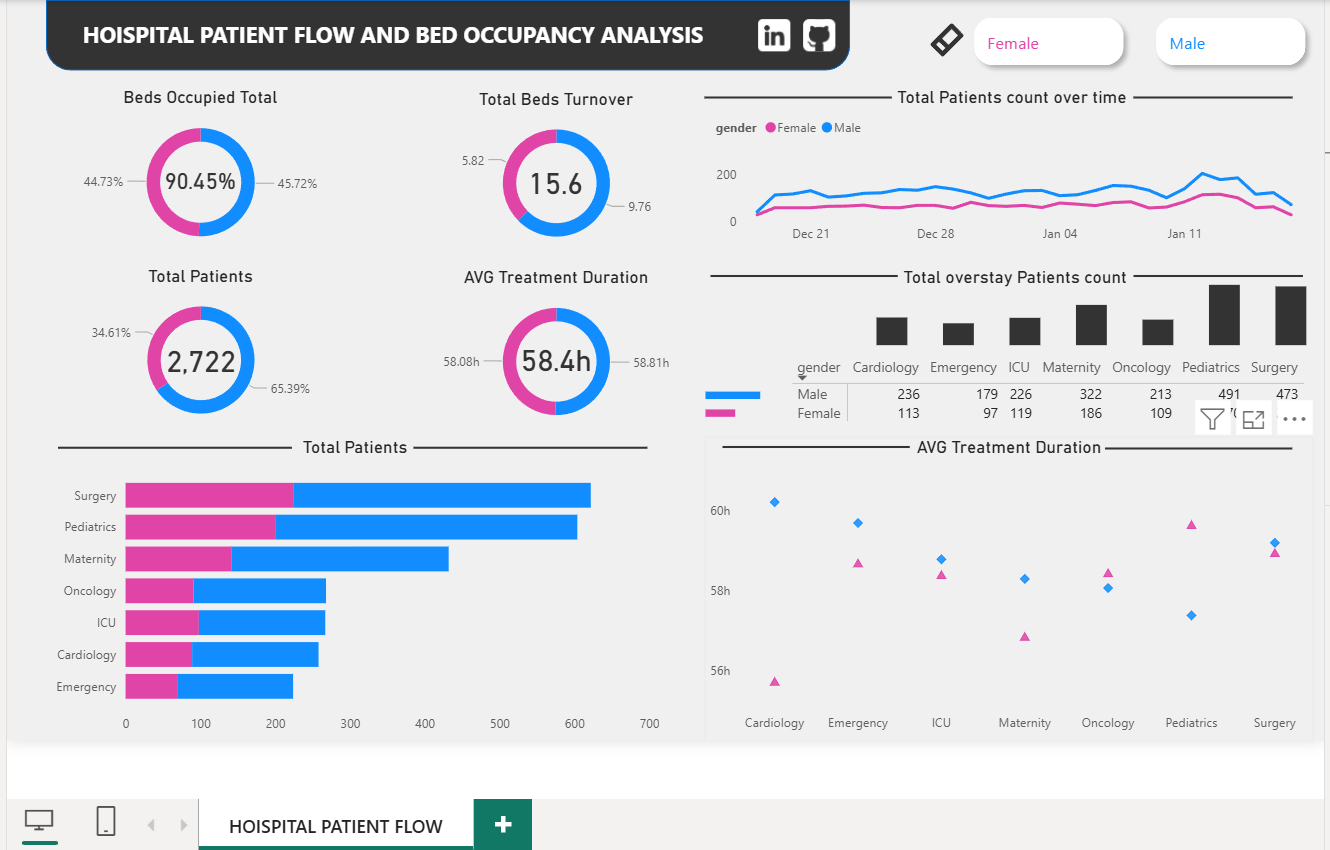

Layout of this report page (visuals, bound fields, positions):
{"tool":"powerbi","page":{"name":"HOISPITAL PATIENT FLOW","canvas":[1280,720],"ordinal":0},"visuals":[{"type":"donutChart","fields":{"Y":["vw_bed_occupancy.Bed Occupancy %"],"Category":["vw_bed_occupancy.gender"]},"box":[38.6,84.6,300,165],"z":0},{"type":"donutChart","fields":{"Category":["vw_bed_turnover_rate.gender"],"Y":["Sum(vw_bed_turnover_rate.bed_turnover_rate)"]},"box":[383.4,85.7,300.4,163.7],"z":1000},{"type":"donutChart","fields":{"Y":["Sum(vw_patient_demographics.total_patients)"],"Category":["vw_patient_demographics.gender"]},"box":[38.5,258.1,300.4,163.7],"z":2000},{"type":"card","fields":{"Values":["Sum(vw_bed_turnover_rate.bed_turnover_rate)"]},"box":[485.5,155,94.4,44.3],"z":3000},{"type":"card","fields":{"Values":["Sum(vw_patient_demographics.total_patients)"]},"box":[111.7,294.6,152.1,109.8],"z":4000},{"type":"card","fields":{"Values":["dim_department.SumAsPercent"]},"box":[135.6,156,103.5,39.4],"z":5000},{"type":"donutChart","fields":{"Y":["Avg(vw_avg_treatment_duration.avg_treatment_duration)"],"Category":["vw_avg_treatment_duration.gender"]},"box":[383.2,260,300.4,163.7],"z":6000},{"type":"card","fields":{"Values":["Avg(vw_avg_treatment_duration.avg_treatment_duration)"]},"box":[469.9,294.6,127.1,107.8],"z":7000},{"type":"lineChart","fields":{"Y":["Sum(vw_patient_volume_trend.patient_count)"],"Series":["vw_patient_volume_trend.gender"],"Category":["vw_patient_volume_trend.admission_date.Variation.Date Hierarchy.Year","vw_patient_volume_trend.admission_date.Variation.Date Hierarchy.Quarter","vw_patient_volume_trend.admission_date.Variation.Date Hierarchy.Month","vw_patient_volume_trend.admission_date.Variation.Date Hierarchy.Day"]},"box":[683.7,84.6,586.1,160.4],"z":8000},{"type":"barChart","fields":{"Category":["vw_department_inflow.department"],"Y":["Sum(vw_department_inflow.patient_count)"],"Series":["vw_department_inflow.gender"]},"box":[38.5,423.7,600.9,296.6],"z":9000},{"type":"pivotTable","fields":{"Rows":["vw_overstay_patients.gender"],"Columns":["vw_overstay_patients.department"],"Values":["Sum(vw_overstay_patients.overstay_count)"]},"box":[758.1,341.1,515,83.1],"z":10000},{"type":"scatterChart","fields":{"Series":["vw_avg_treatment_duration.gender"],"X":["vw_avg_treatment_duration.department"],"Y":["Sum(vw_avg_treatment_duration.avg_treatment_duration)"]},"box":[677.9,424.2,591.9,295.9],"z":11000},{"type":"advancedSlicerVisual","fields":{"Values":["dim_patient.gender"]},"box":[922.8,0,357.2,80],"z":12000},{"type":"clusteredColumnChart","fields":{"Category":["vw_overstay_patients.gender","vw_overstay_patients.department"],"Y":["Sum(vw_overstay_patients.overstay_count)"]},"box":[839.7,259.5,430.1,81.6],"z":13000},{"type":"clusteredBarChart","fields":{"Category":["vw_overstay_patients.gender"],"Y":["Sum(vw_overstay_patients.overstay_count)"]},"box":[673.5,358.6,84.6,61.2],"z":14000},{"type":"textbox","box":[739.5,260,481.5,50.1],"z":15000},{"type":"shape","box":[37.9,0,781.4,68.5],"z":16000},{"type":"textbox","box":[68.5,13.1,670.6,52.5],"z":17000},{"type":"shape","box":[49.6,415.5,227.4,39.4],"z":18000},{"type":"shape","box":[395.1,415.5,227.4,39.4],"z":19000},{"type":"shape","box":[677.9,84.6,182.2,20.4],"z":20000},{"type":"shape","box":[1094.9,84.6,154.5,20.4],"z":21000},{"type":"shape","box":[683.7,258,182.2,20.4],"z":22000},{"type":"shape","box":[1094.9,258,164.7,20.4],"z":23000},{"type":"shape","box":[695.4,424.2,182.2,20.4],"z":24000},{"type":"shape","box":[1067.2,425.7,182.2,20.4],"z":25000},{"type":"actionButton","box":[893.7,19,40,40],"z":26000},{"type":"actionButton","box":[769.7,14.6,49.6,39.4],"z":27000},{"type":"actionButton","box":[726,14.6,49.6,39.4],"z":28000}]}

Visuals, with their boxes on the page's 1280x720 design canvas (x1, y1, x2, y2). These are canvas units, not pixel positions in the 1330x850 screenshot, which may show the page scaled, cropped or inside an application window:
donutChart - vw_bed_occupancy.Bed Occupancy % x vw_bed_occupancy.gender: x1=39 y1=85 x2=339 y2=250
donutChart - vw_bed_turnover_rate.gender x Sum(vw_bed_turnover_rate.bed_turnover_rate): x1=383 y1=86 x2=684 y2=249
donutChart - Sum(vw_patient_demographics.total_patients) x vw_patient_demographics.gender: x1=38 y1=258 x2=339 y2=422
card - Sum(vw_bed_turnover_rate.bed_turnover_rate): x1=486 y1=155 x2=580 y2=199
card - Sum(vw_patient_demographics.total_patients): x1=112 y1=295 x2=264 y2=404
card - dim_department.SumAsPercent: x1=136 y1=156 x2=239 y2=195
donutChart - Avg(vw_avg_treatment_duration.avg_treatment_duration) x vw_avg_treatment_duration.gender: x1=383 y1=260 x2=684 y2=424
card - Avg(vw_avg_treatment_duration.avg_treatment_duration): x1=470 y1=295 x2=597 y2=402
lineChart - Sum(vw_patient_volume_trend.patient_count) x vw_patient_volume_trend.gender: x1=684 y1=85 x2=1270 y2=245
barChart - vw_department_inflow.department x Sum(vw_department_inflow.patient_count): x1=38 y1=424 x2=639 y2=720
pivotTable - vw_overstay_patients.gender x vw_overstay_patients.department: x1=758 y1=341 x2=1273 y2=424
scatterChart - vw_avg_treatment_duration.gender x vw_avg_treatment_duration.department: x1=678 y1=424 x2=1270 y2=720
advancedSlicerVisual - dim_patient.gender: x1=923 y1=0 x2=1280 y2=80
clusteredColumnChart - vw_overstay_patients.gender x vw_overstay_patients.department: x1=840 y1=260 x2=1270 y2=341
clusteredBarChart - vw_overstay_patients.gender x Sum(vw_overstay_patients.overstay_count): x1=674 y1=359 x2=758 y2=420
textbox: x1=740 y1=260 x2=1221 y2=310
shape: x1=38 y1=0 x2=819 y2=68
textbox: x1=68 y1=13 x2=739 y2=66
shape: x1=50 y1=416 x2=277 y2=455
shape: x1=395 y1=416 x2=622 y2=455
shape: x1=678 y1=85 x2=860 y2=105
shape: x1=1095 y1=85 x2=1249 y2=105
shape: x1=684 y1=258 x2=866 y2=278
shape: x1=1095 y1=258 x2=1260 y2=278
shape: x1=695 y1=424 x2=878 y2=445
shape: x1=1067 y1=426 x2=1249 y2=446
actionButton: x1=894 y1=19 x2=934 y2=59
actionButton: x1=770 y1=15 x2=819 y2=54
actionButton: x1=726 y1=15 x2=776 y2=54
